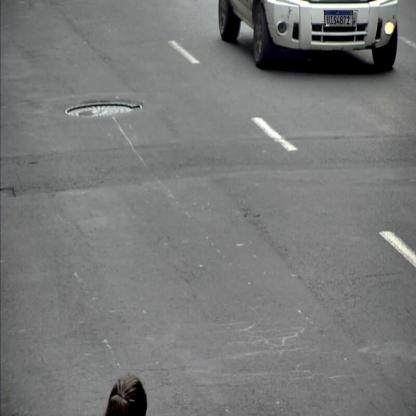PlacaM: (324, 10, 353, 27)
